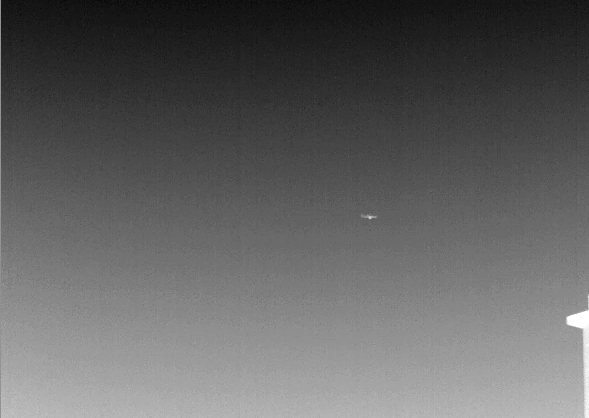dim target: (360, 212, 377, 220)
